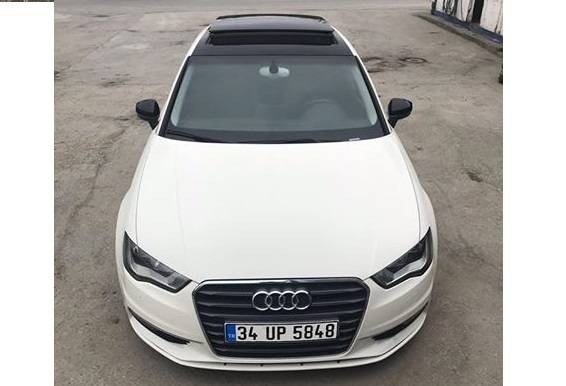audi: (245, 284, 313, 316)
